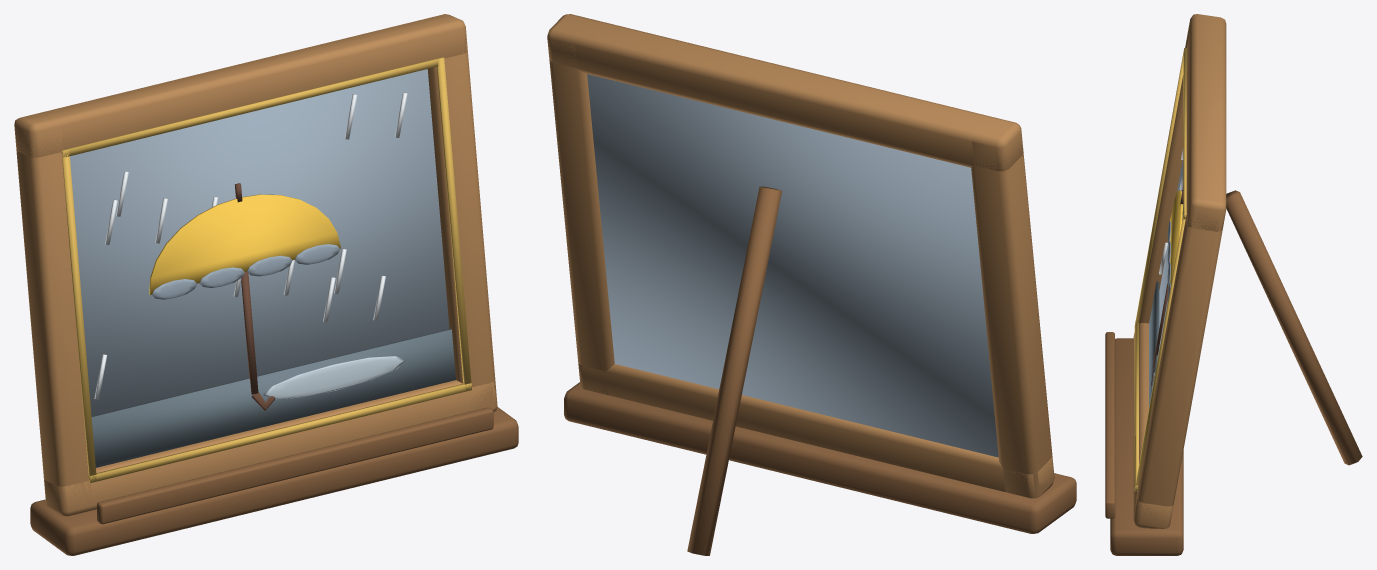
File: art-rain-umbrella.glb
3 renders of one model, left to right at view 1: azimuth 30°, elevation 25°; view 2: azimuth 150°, elevation 25°; view 3: azimuth 270°, elevation 25°, orthographic. The views are drawn at different scales.
Visible parts, largest first — view 1: art; view 2: art; view 3: art.
Part boxes in pixels (<box>): art: <box>14,14,518,555</box>; art: <box>547,14,1076,555</box>; art: <box>1105,14,1362,555</box>.
Size of the model in its own units: 0.57 by 0.4826 by 0.3151.
